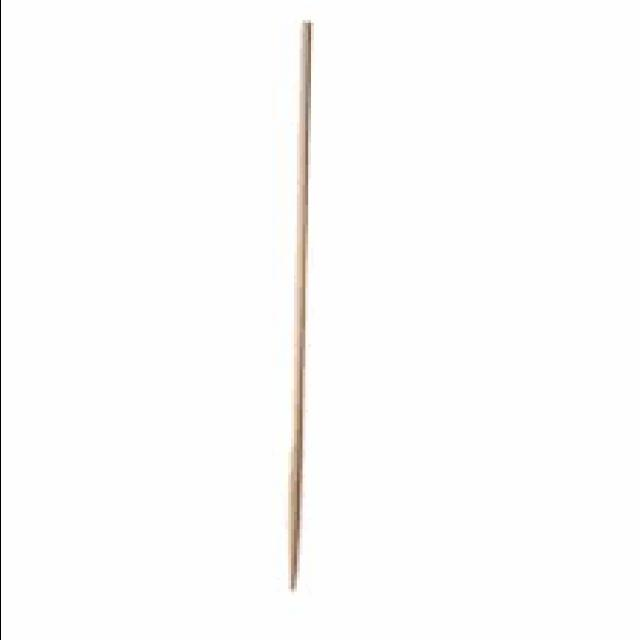stick: (289, 21, 309, 589)
